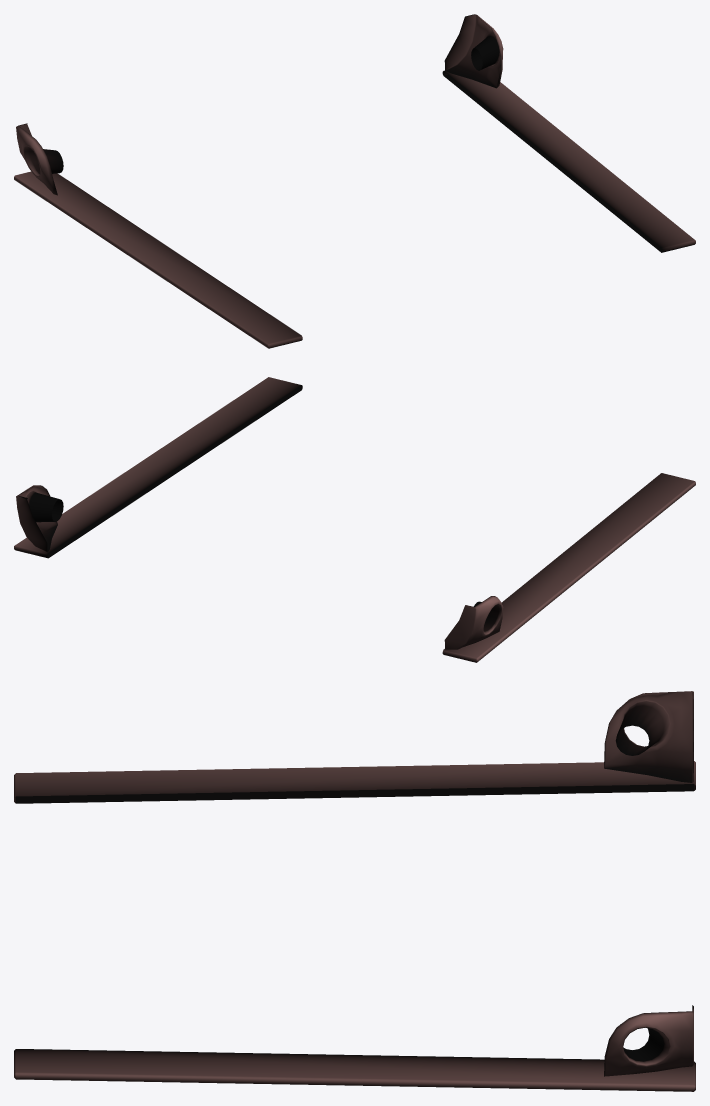
The model's file is Viper_Skirt_04_Trim.fbx.
3 views of the same model, one above another, from view 1: azimuth 30°, elevation 25°; view 2: azimuth 150°, elevation 25°; view 3: azimuth 270°, elevation 25° (orthographic). The views are drawn at different scales.
Parts seen in each view (by area): view 1: Viper_Skirt_04_Trim; view 2: Viper_Skirt_04_Trim; view 3: Viper_Skirt_04_Trim.
Boxes of the visible parts, box(x1,y1,x2,y2) form: Viper_Skirt_04_Trim: box(14, 14, 695, 348); Viper_Skirt_04_Trim: box(14, 377, 695, 662); Viper_Skirt_04_Trim: box(14, 691, 695, 1091).
Size of the model in its own units: 191 by 21.47 by 168.
